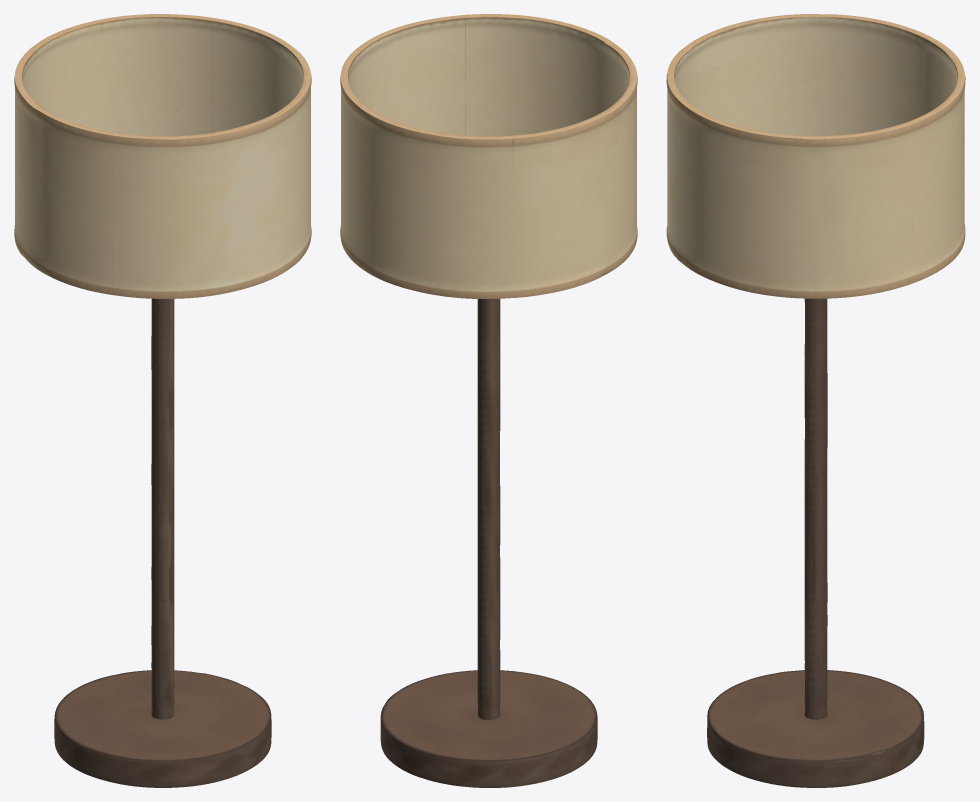
Rendered from floor_lamp.glb.
The picture shows the model from 3 angles, left to right: view 1: azimuth 30°, elevation 25°; view 2: azimuth 150°, elevation 25°; view 3: azimuth 270°, elevation 25°; orthographic projection.
Parts seen in each view (by area): view 1: Mesh0; view 2: Mesh0; view 3: Mesh0.
Boxes of the visible parts, x1,y1,x2,y2 form: Mesh0: [14, 14, 311, 787]; Mesh0: [340, 14, 637, 787]; Mesh0: [666, 14, 965, 787].
Size of the model in its own units: 0.764 by 1.9 by 0.7677.
1 material, 1 textured.
